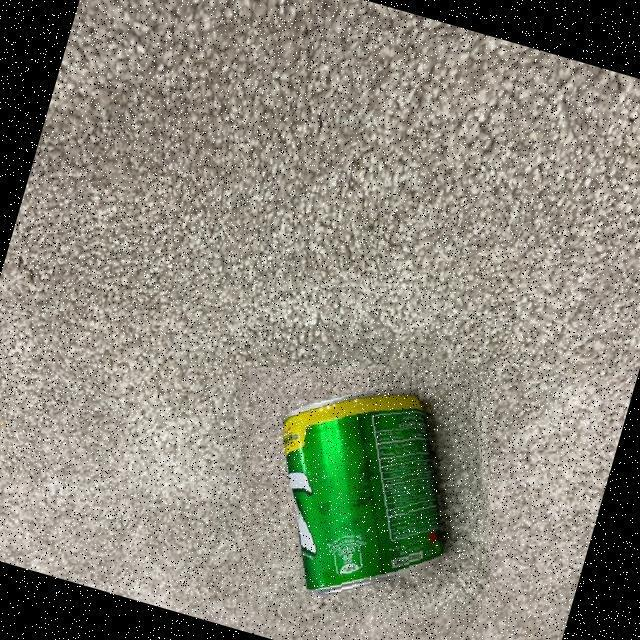recyclable: (240, 366, 490, 616)
